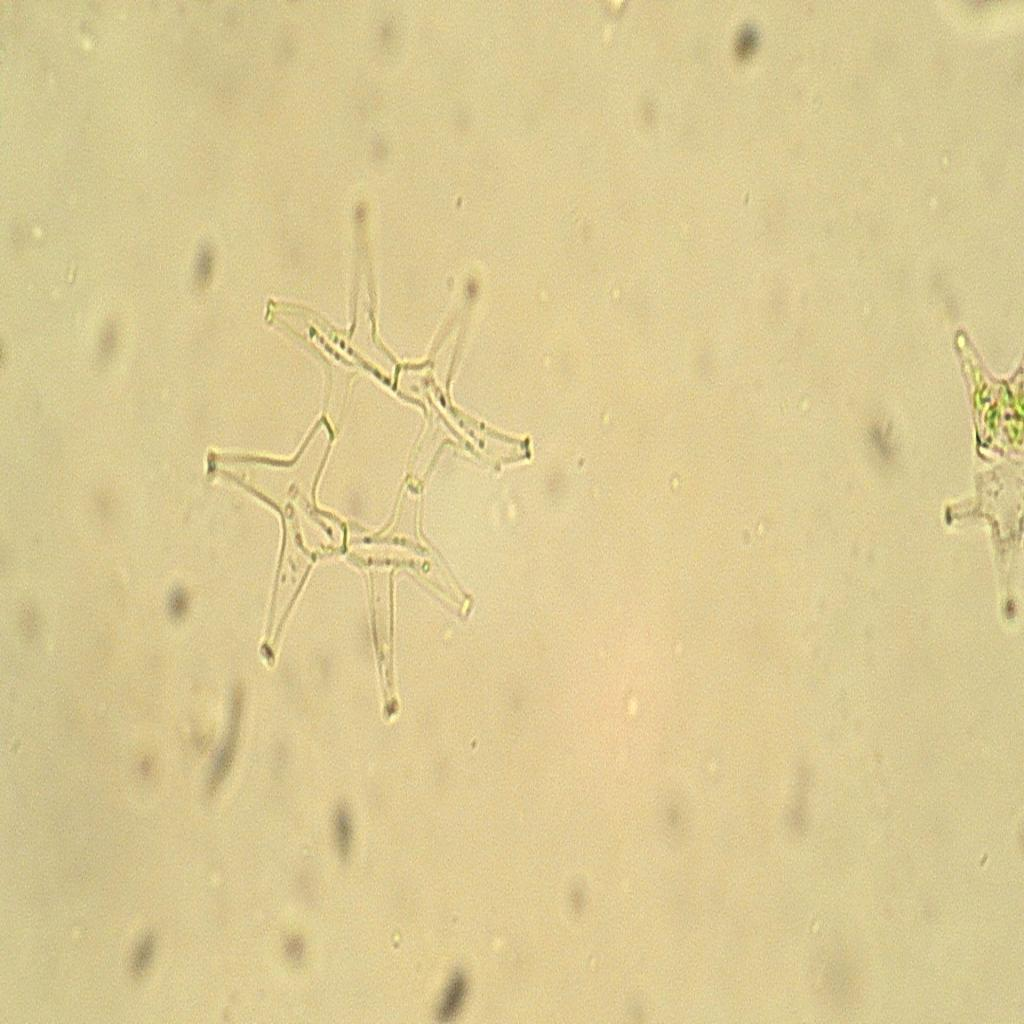Pediastrum_75TH: (195, 188, 537, 764)
